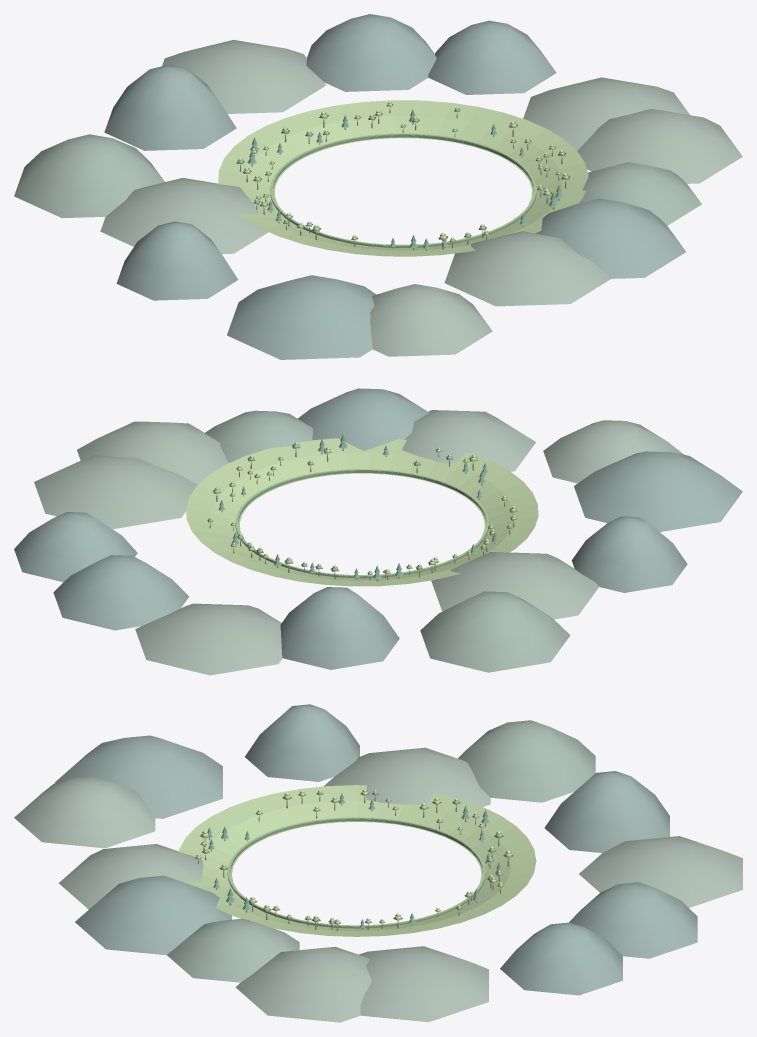
File: env_lite.glb
3 renders of one model, top to bottom at view 1: azimuth 30°, elevation 25°; view 2: azimuth 150°, elevation 25°; view 3: azimuth 270°, elevation 25°, orthographic. The views are drawn at different scales.
Parts seen in each view (by area): view 1: Env_far, Env_terrain, Env_props; view 2: Env_far, Env_terrain, Env_props; view 3: Env_far, Env_terrain, Env_props.
Boxes of the visible parts, <box> form: Env_far: <box>14,14,742,359</box>; Env_terrain: <box>218,100,588,256</box>; Env_props: <box>236,101,569,250</box>; Env_far: <box>14,388,742,675</box>; Env_terrain: <box>186,438,538,586</box>; Env_props: <box>207,434,517,581</box>; Env_far: <box>14,704,742,1022</box>; Env_terrain: <box>178,785,536,936</box>; Env_props: <box>195,789,513,931</box>.
Size of the model in its own units: 276 by 23.88 by 292.
